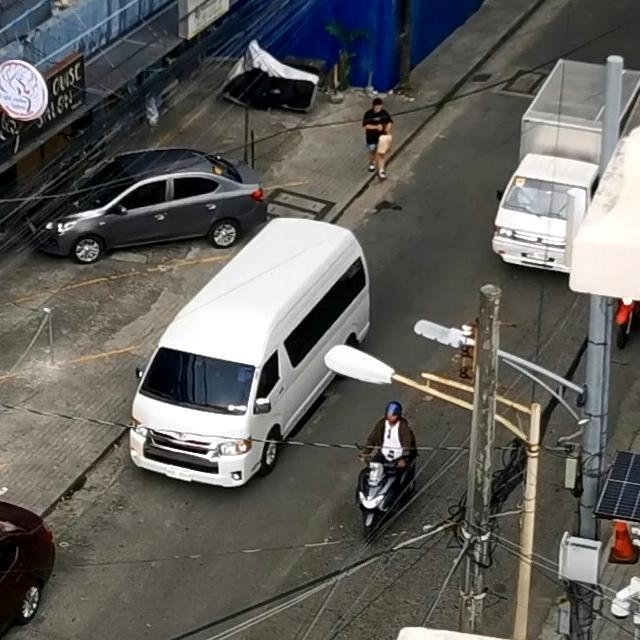Motorcycle: (336, 390, 424, 539)
